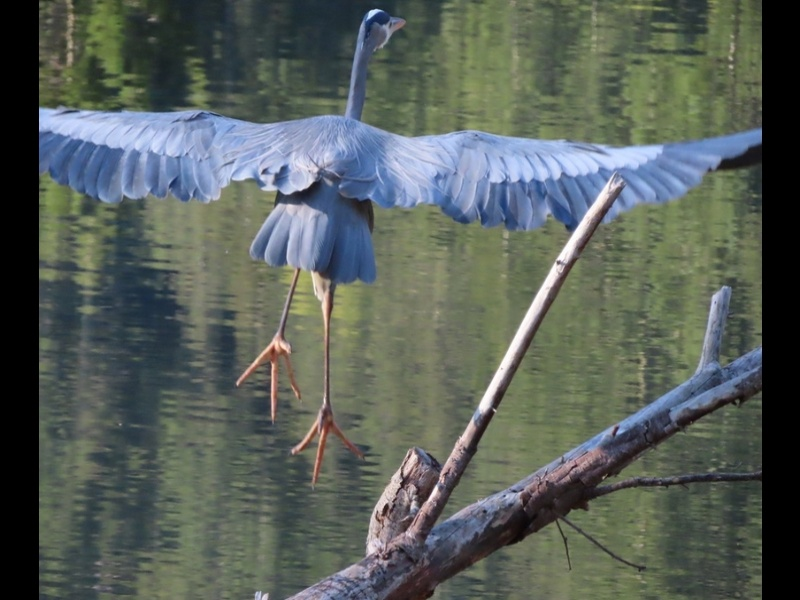heron: (79, 6, 753, 484)
